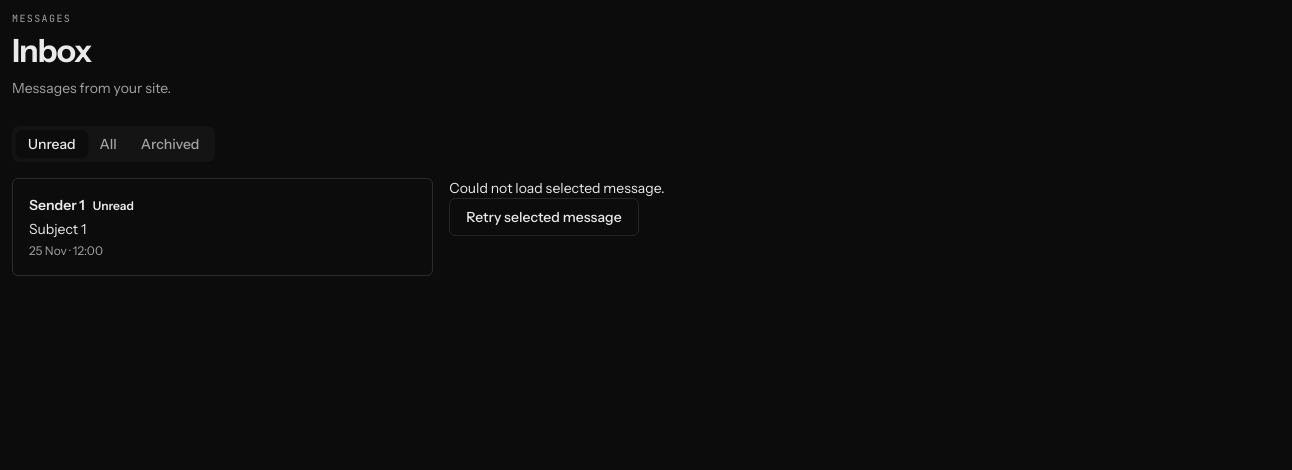
Test case: messages inbox › deep-link lookup errors offer retry rather than claiming not found
The image size is (1292, 470).
Expected: the text "Could not load selected message." is shown, [449, 179, 664, 197]
Step 1. Click the button "Retry selected message" → (544, 217), box [449, 198, 639, 236]
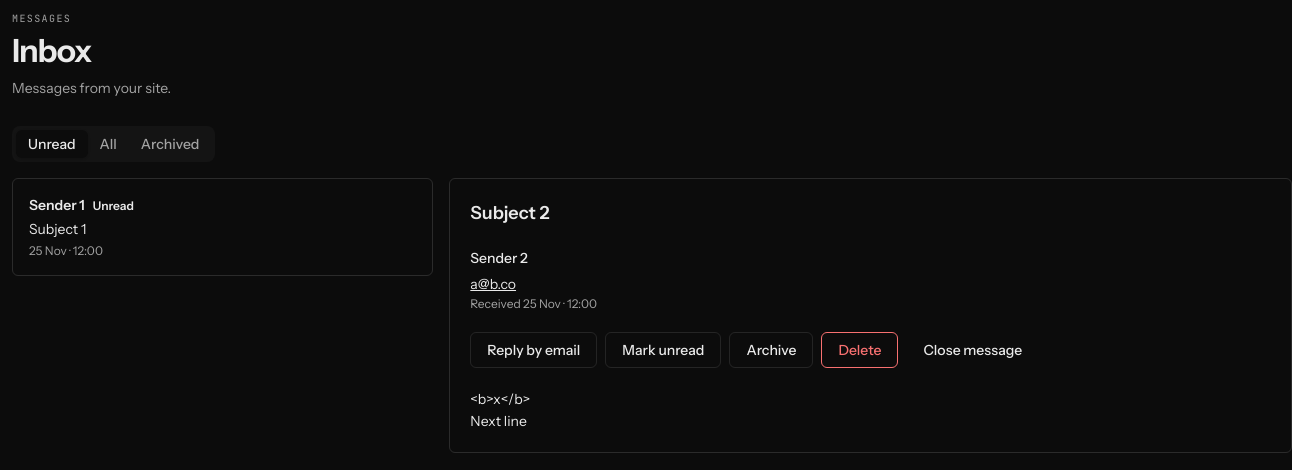
Now the link "Reply by email" is shown, box [470, 332, 597, 368]
